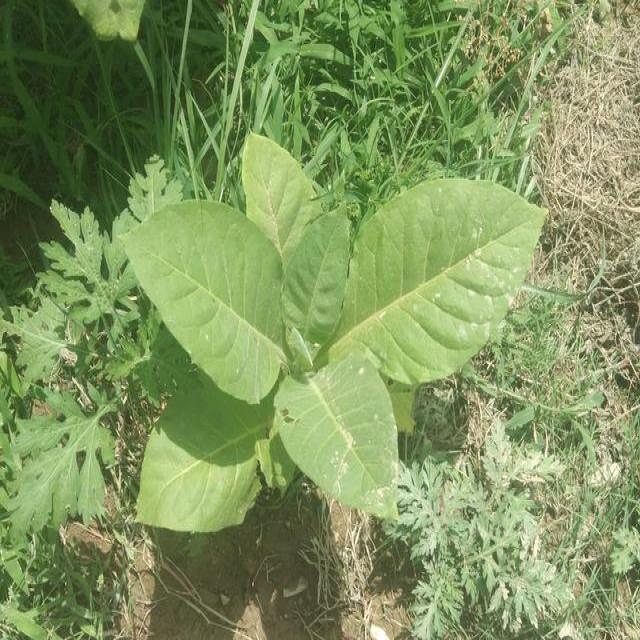crop: (123, 127, 545, 535)
